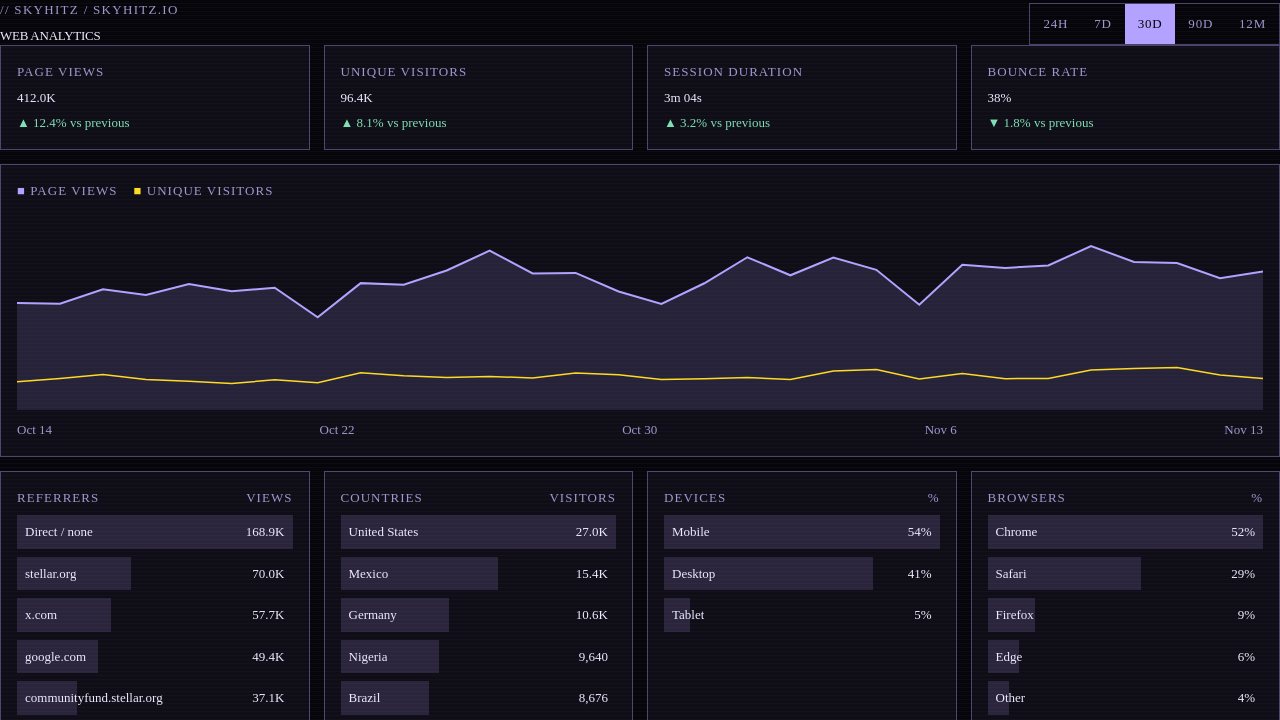
Test: ApiAnalyticsScreen › shares the time range with the web screen
Click the button "12M" at (1253, 24), box [1226, 4, 1279, 44]
(page scrolled)
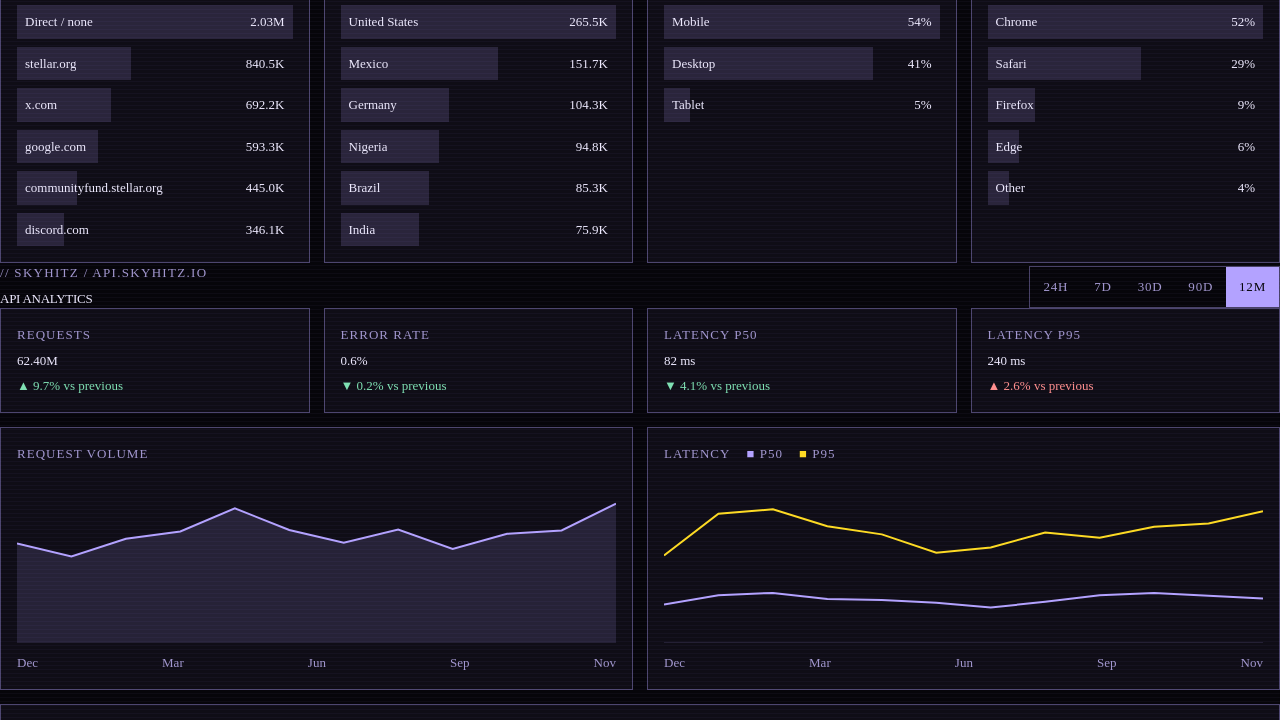
expect the text "62.40M" is shown: met, box [17, 352, 58, 368]
